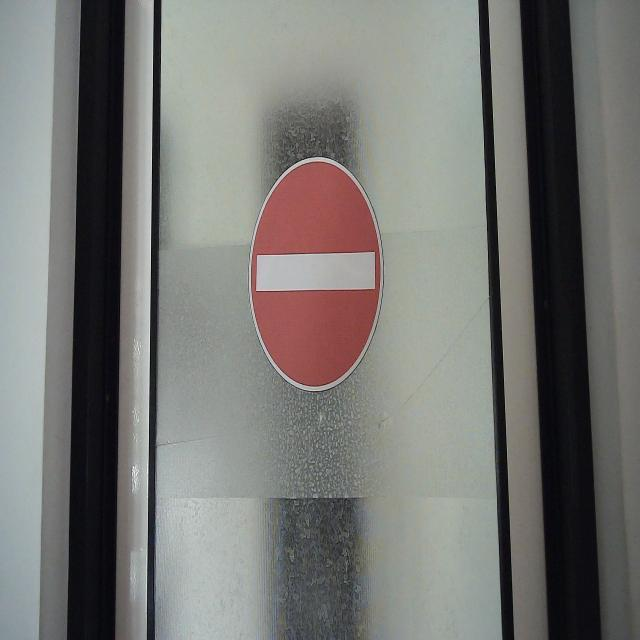no_entry: (246, 154, 386, 395)
